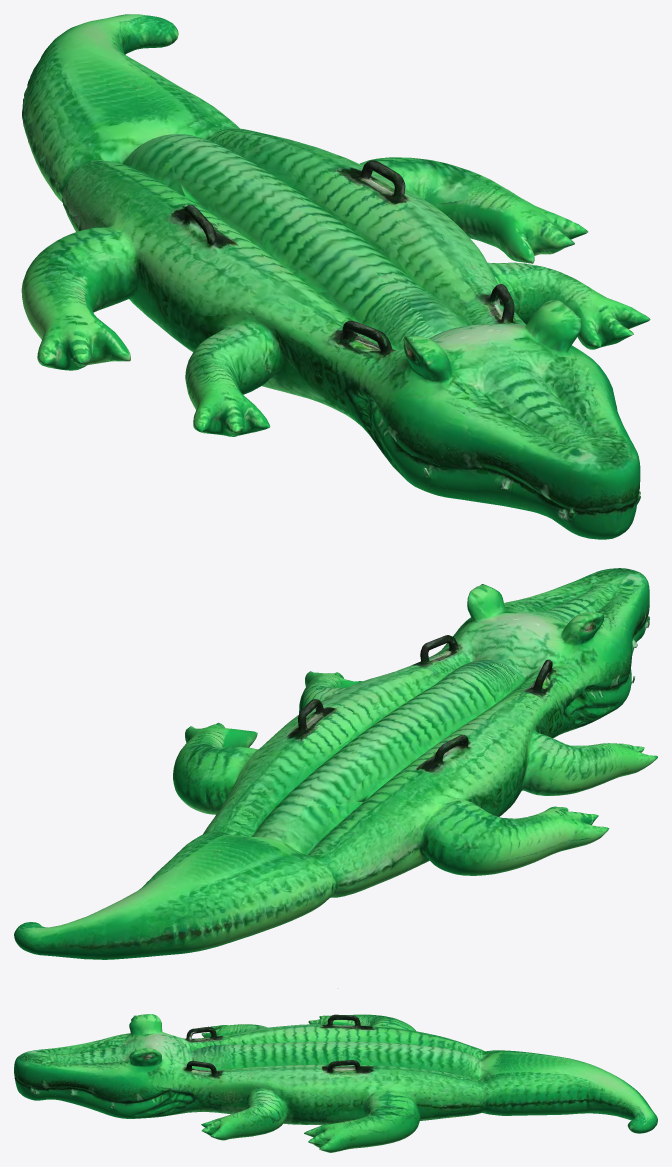
The model's file is gator.glb.
The picture shows the model from 3 angles, top to bottom: view 1: azimuth 30°, elevation 25°; view 2: azimuth 150°, elevation 25°; view 3: azimuth 270°, elevation 25°; orthographic projection. The views are drawn at different scales.
Visible parts, largest first — view 1: Object_5, Object_6; view 2: Object_5, Object_6; view 3: Object_5, Object_6.
Boxes of the visible parts, x1,y1,x2,y2 form: Object_5: [21, 14, 650, 539]; Object_6: [200, 284, 629, 507]; Object_5: [14, 568, 657, 959]; Object_6: [340, 584, 637, 732]; Object_5: [14, 1014, 657, 1152]; Object_6: [45, 1014, 215, 1123].
Bounding box in the file's own units: 0.9266 × 0.28 × 1.9.
1 material, 1 textured.
